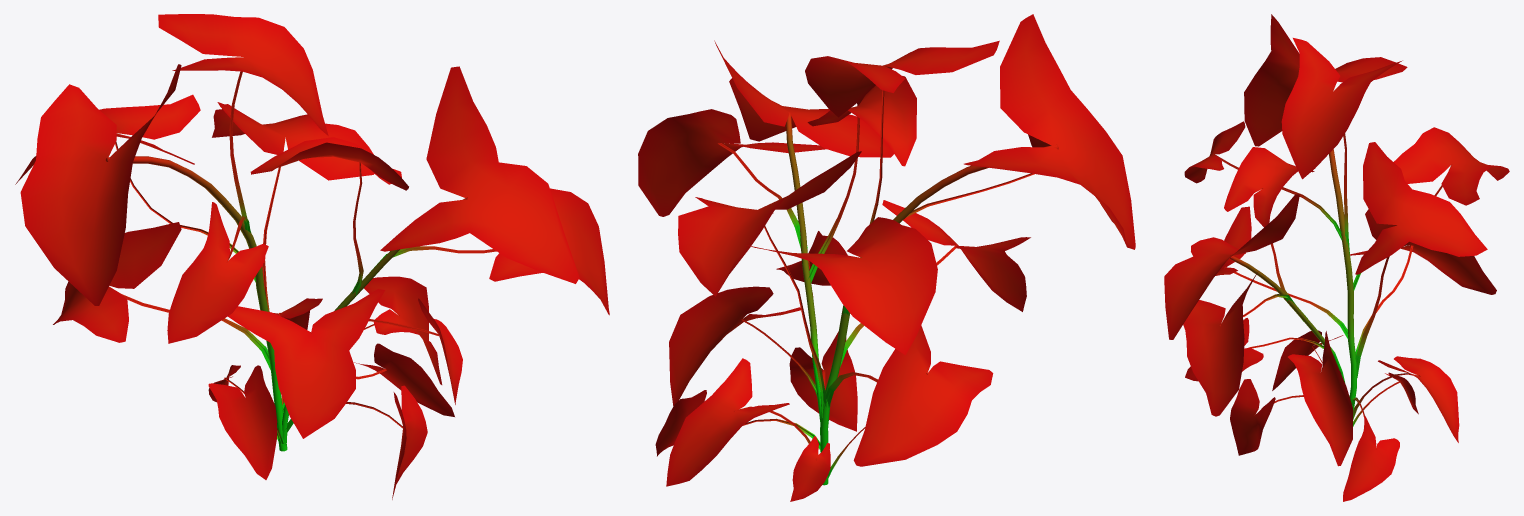
Rendered from PlantFern04.fbx.
3 views of the same model, side by side, from view 1: azimuth 30°, elevation 25°; view 2: azimuth 150°, elevation 25°; view 3: azimuth 270°, elevation 25° (orthographic). The views are drawn at different scales.
Parts seen in each view (by area): view 1: _0977_Var4_LOD0; view 2: _0977_Var4_LOD0; view 3: _0977_Var4_LOD0.
Part boxes in pixels (box(x1,y1,x2,y2)): _0977_Var4_LOD0: box(15, 14, 609, 499); _0977_Var4_LOD0: box(638, 14, 1135, 501); _0977_Var4_LOD0: box(1164, 14, 1509, 501).
Size of the model in its own units: 68.25 by 58.2 by 49.53.
